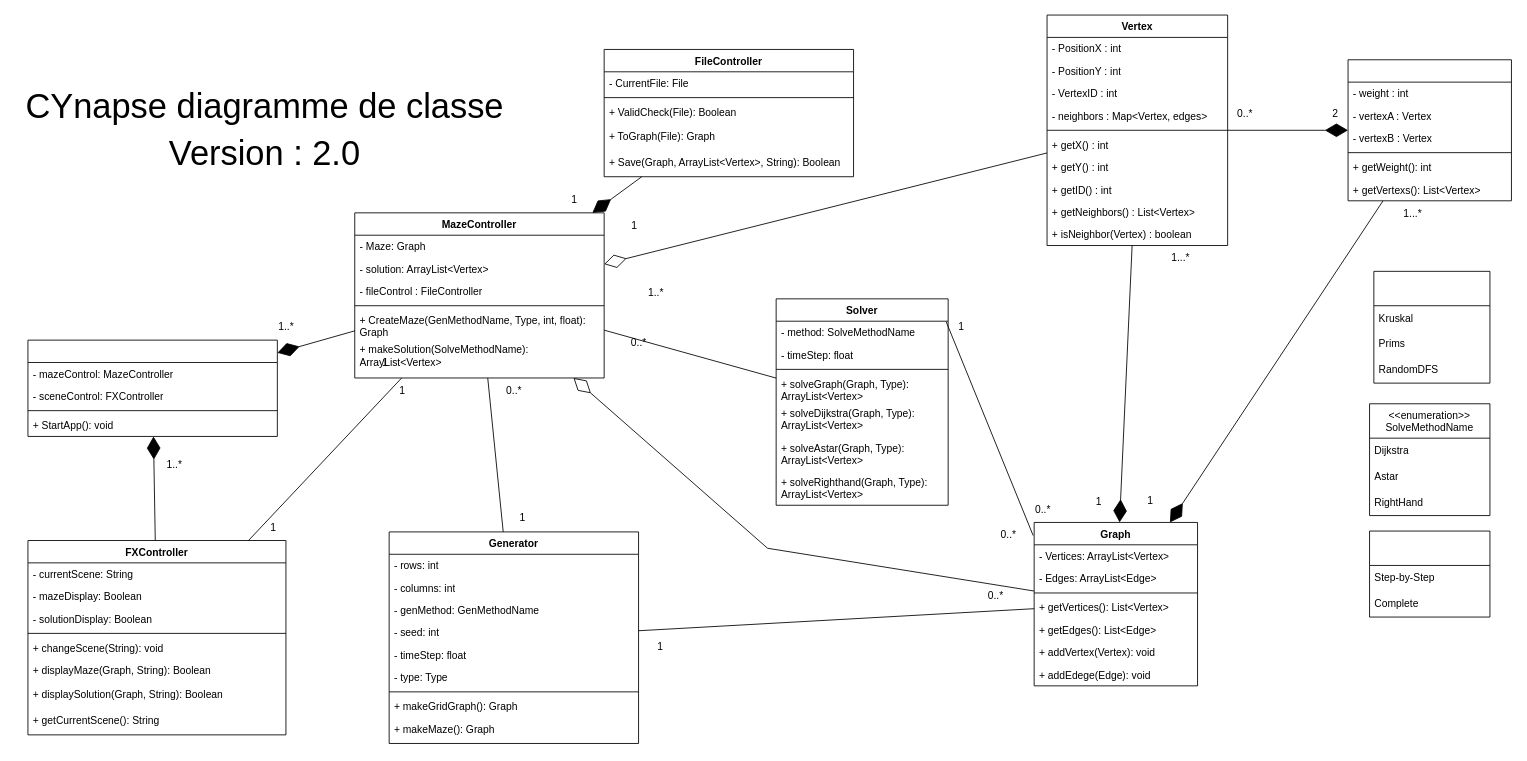
Some shapes in this 1527 by 761 pixel diagram are drawn without their labels. Each missing label, with the box of its shape:
<<enumeration>> GenMethodName: (1373, 270, 1490, 383)
<<enumeration>> Type: (1369, 530, 1490, 617)
Edge: (1347, 59, 1511, 201)
Main: (27, 339, 277, 436)
